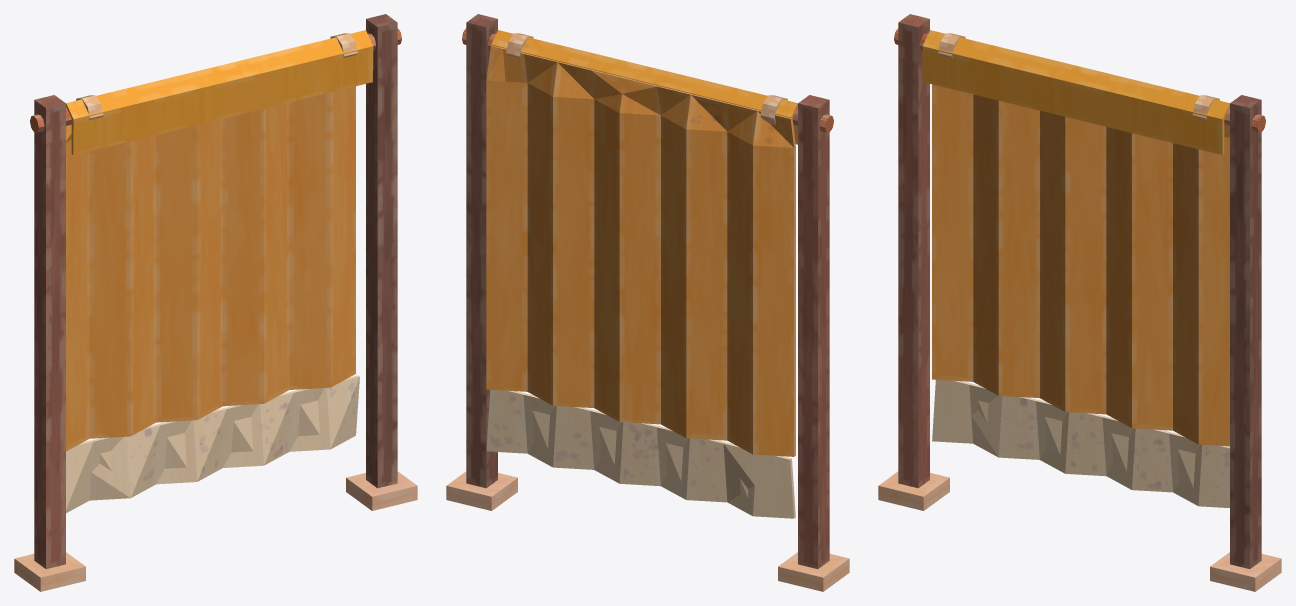
File: rack_saffron.bundle.fbx
3 views of the same model, side by side, from view 1: azimuth 30°, elevation 25°; view 2: azimuth 150°, elevation 25°; view 3: azimuth 330°, elevation 25° (orthographic).
Visible parts, largest first — view 1: rack_saffron, rack_saffron_s02, rack_saffron_low, rack_saffron_s03, rack_saffron_s00; view 2: rack_saffron, rack_saffron_low, rack_saffron_s02, rack_saffron_s00, rack_saffron_s03, rack_saffron_s01; view 3: rack_saffron, rack_saffron_s03, rack_saffron_low, rack_saffron_s02, rack_saffron_s00, rack_saffron_s01.
Part boxes in pixels (x1,y1,x2,y2): rack_saffron: [15, 15, 415, 589]; rack_saffron_s02: [33, 61, 240, 513]; rack_saffron_low: [14, 14, 417, 591]; rack_saffron_s03: [156, 32, 364, 358]; rack_saffron_s00: [74, 245, 355, 508]; rack_saffron: [448, 15, 833, 589]; rack_saffron_low: [446, 14, 849, 591]; rack_saffron_s02: [621, 62, 826, 484]; rack_saffron_s00: [486, 251, 754, 515]; rack_saffron_s03: [503, 33, 685, 373]; rack_saffron_s01: [464, 30, 520, 252]; rack_saffron: [880, 15, 1280, 589]; rack_saffron_s03: [1041, 72, 1219, 335]; rack_saffron_low: [878, 14, 1281, 591]; rack_saffron_s02: [896, 30, 1100, 441]; rack_saffron_s00: [948, 307, 1229, 457]; rack_saffron_s01: [1209, 101, 1262, 307].
Bounding box in the file's own units: 8.3 × 10 × 1.
Materials: 1 (1 with a texture image).
